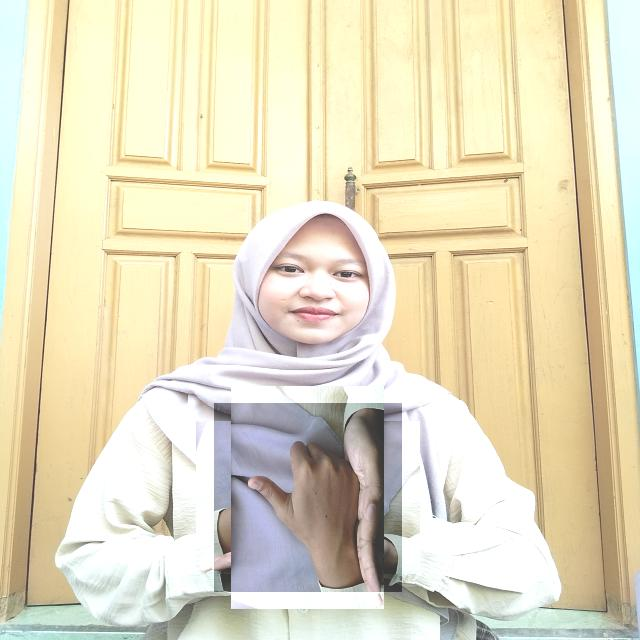cantik: (214, 403, 402, 592)
